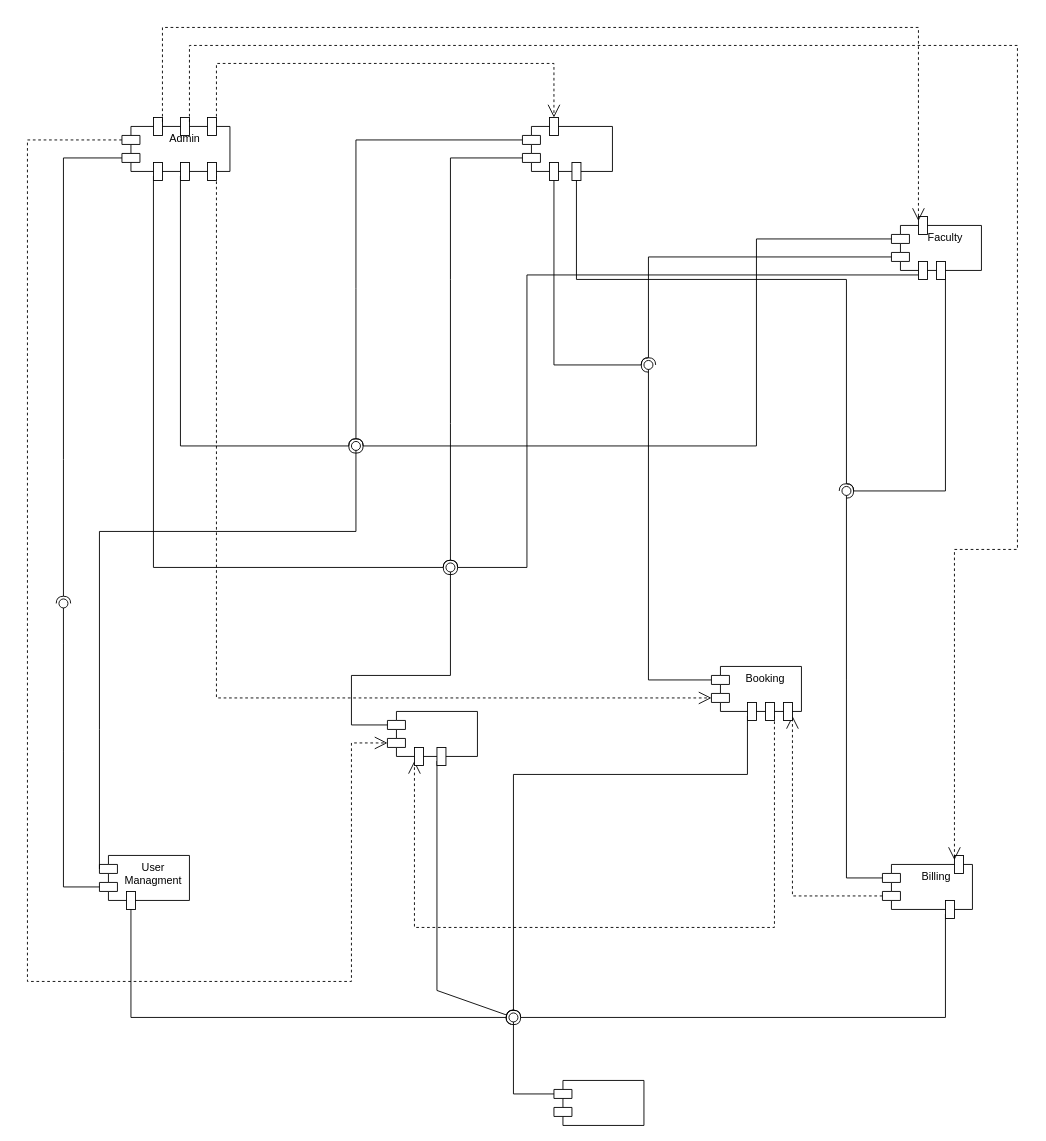
This 1046x1141 diagram has some shape labels left out. Each missing label, with the centre of its shape:
"Facility" goes at (432,733).
"File Handling" goes at (598,1102).
"Student" goes at (567,148).
